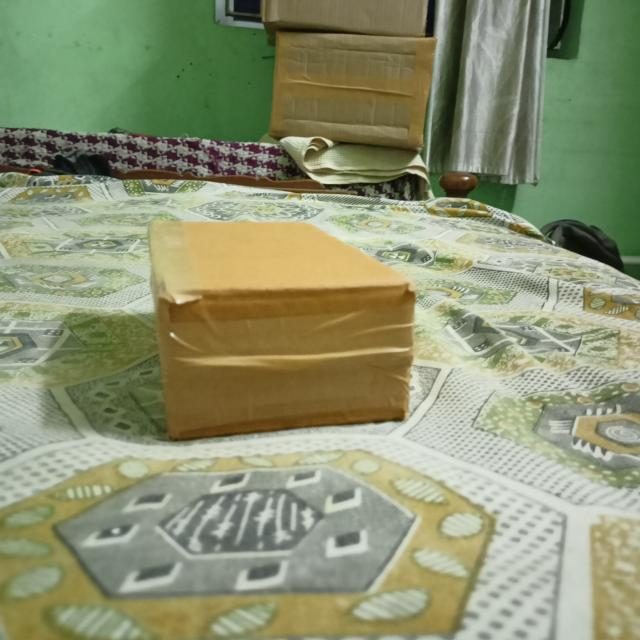box: (166, 285, 413, 439)
